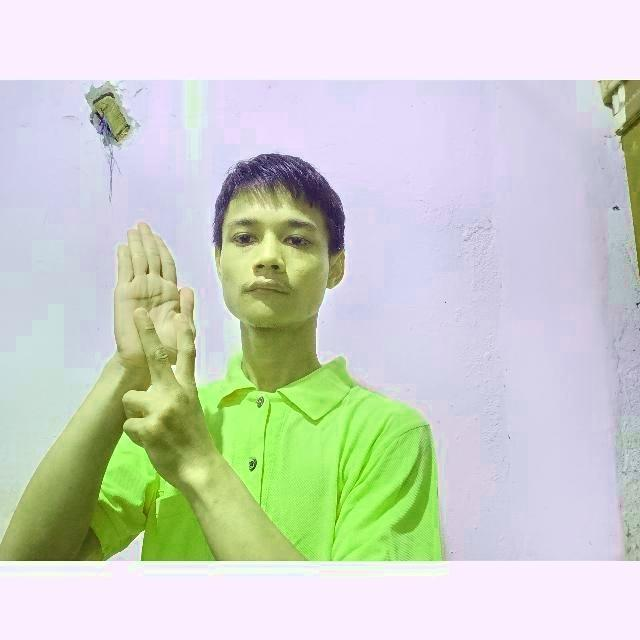N: (96, 190, 218, 410)
